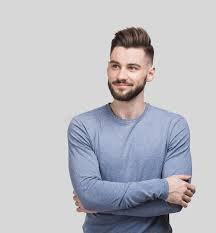Sober: (107, 51, 144, 95)
